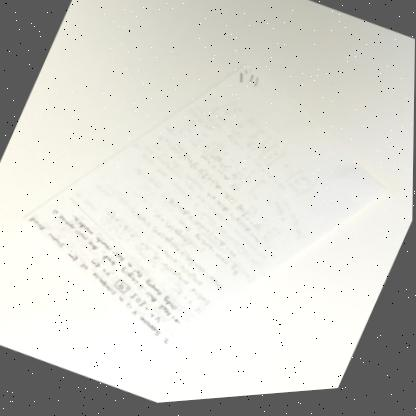Paper: (25, 68, 384, 349)
